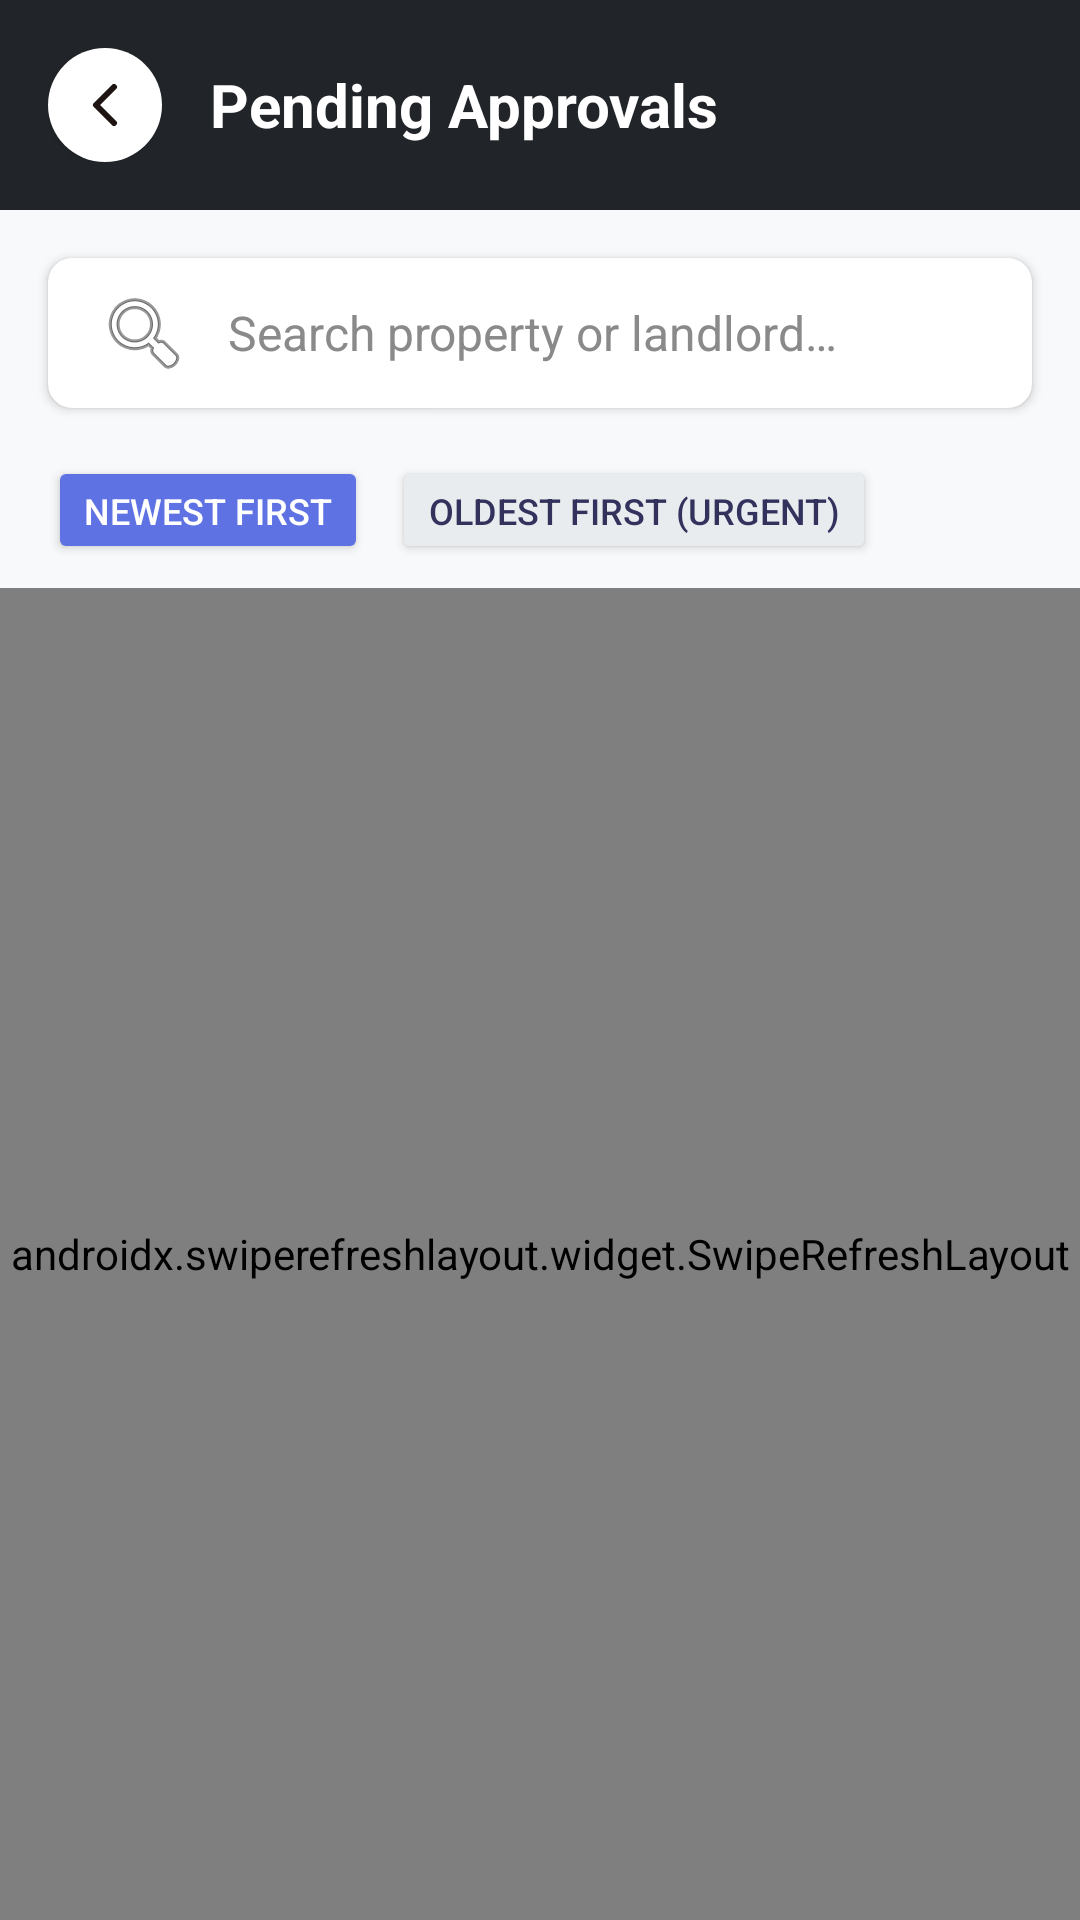

Where icons sit on this 1080*1920 app screen, as box(x1, y1, x2, y2):
Navigate Back: box(48, 48, 162, 162)
